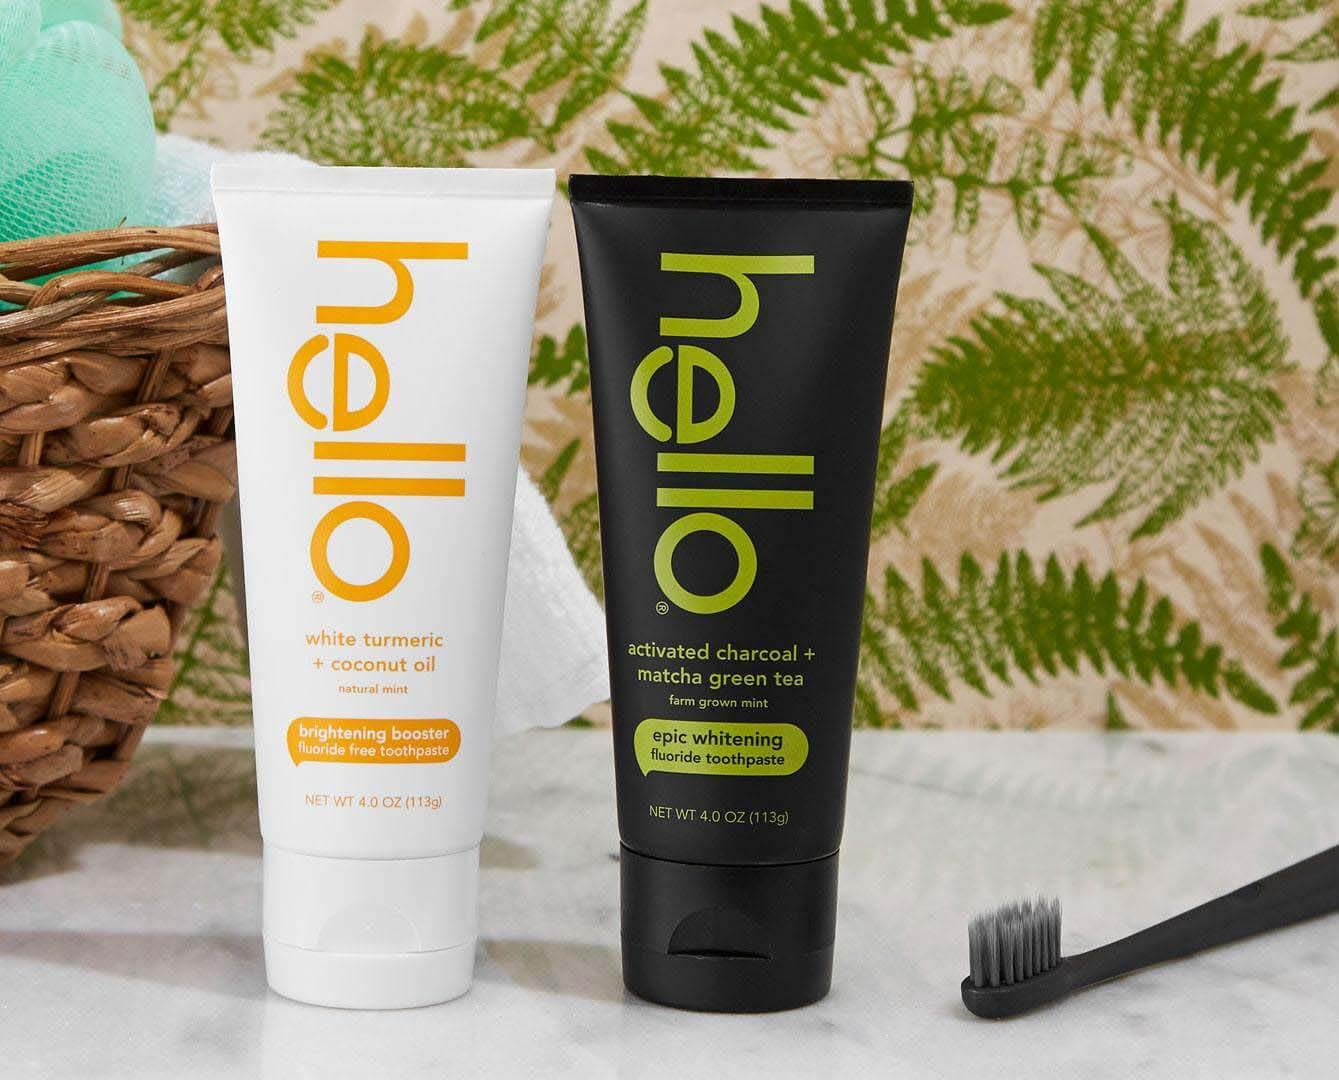toothpaste: (194, 148, 529, 1024), (554, 158, 864, 1043)
